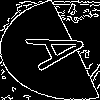A: (25, 25, 100, 71)
